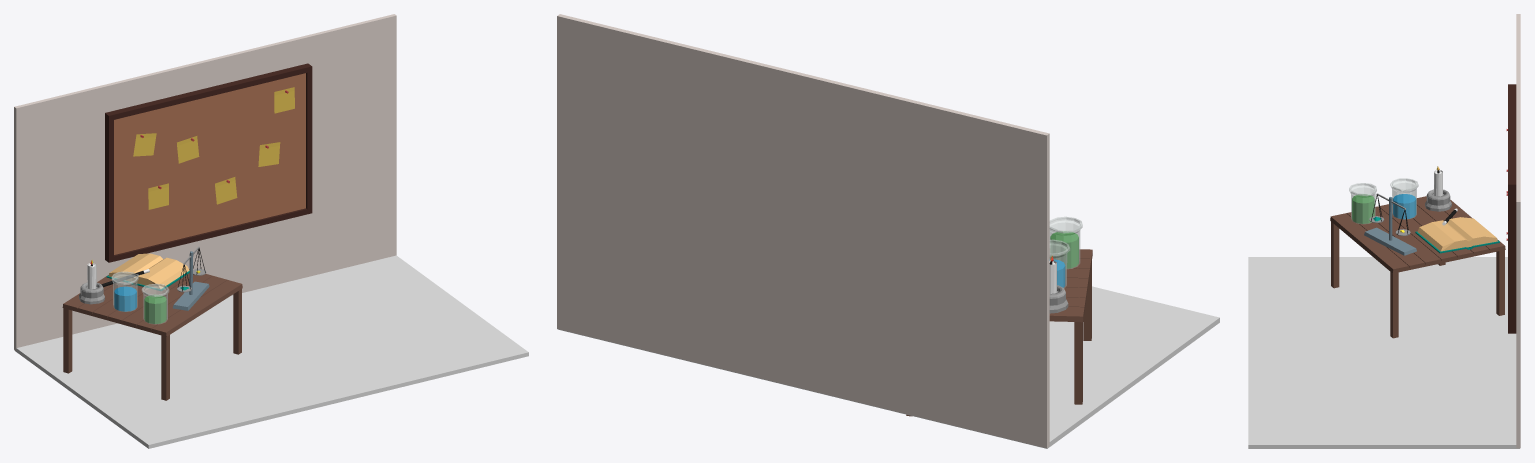
Rendered from MainMenu.glb.
3 views of the same model, side by side, from view 1: azimuth 30°, elevation 25°; view 2: azimuth 150°, elevation 25°; view 3: azimuth 270°, elevation 25° (orthographic). The views are drawn at different scales.
Visible parts, largest first — view 1: Cube.001, Cube, Wall_corkboard_with_post_it_notes, group271774997; view 2: Cube.001, Cube, group271774997; view 3: Cube, group271774997, Wall_corkboard_with_post_it_notes, Cube.001.
Part boxes in pixels (<box>): Cube.001: <box>14,14,396,350</box>; Cube: <box>14,255,528,448</box>; Wall_corkboard_with_post_it_notes: <box>105,63,312,262</box>; group271774997: <box>62,246,242,400</box>; Cube.001: <box>557,14,1049,448</box>; Cube: <box>557,286,1219,448</box>; group271774997: <box>906,216,1092,416</box>; Cube: <box>1248,257,1519,448</box>; group271774997: <box>1330,166,1505,338</box>; Wall_corkboard_with_post_it_notes: <box>1506,84,1516,333</box>; Cube.001: <box>1516,14,1520,448</box>.
Size of the model in its own units: 4.33 by 2.75 by 2.65.
Materials: 15 (1 with a texture image).
